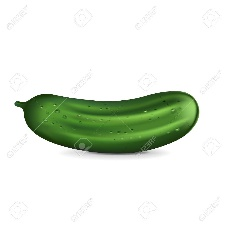cucumber: (22, 91, 198, 151)
